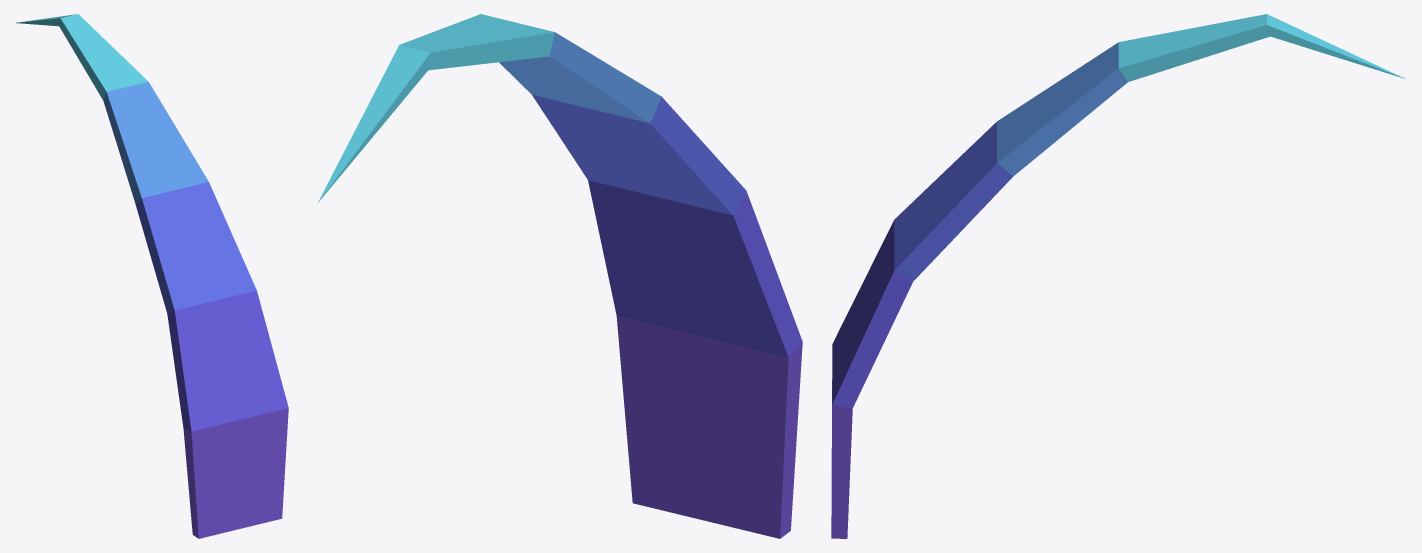
File: grass.glb
3 views of the same model, side by side, from view 1: azimuth 30°, elevation 25°; view 2: azimuth 150°, elevation 25°; view 3: azimuth 270°, elevation 25° (orthographic). The views are drawn at different scales.
Parts seen in each view (by area): view 1: Grass_mesh; view 2: Grass_mesh; view 3: Grass_mesh.
Boxes of the visible parts, box(x1,y1,x2,y2) form: Grass_mesh: box(15, 14, 288, 538); Grass_mesh: box(317, 14, 802, 538); Grass_mesh: box(831, 14, 1405, 538).
Size of the model in its own units: 1.89 by 7.2 by 7.61.
